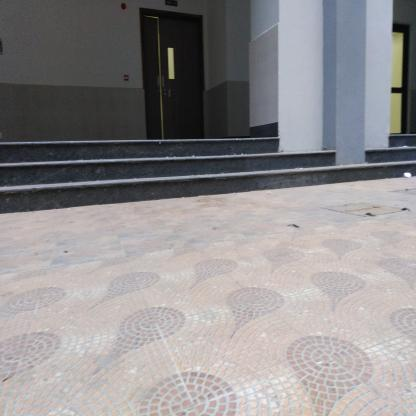stairs: (5, 137, 278, 200)
